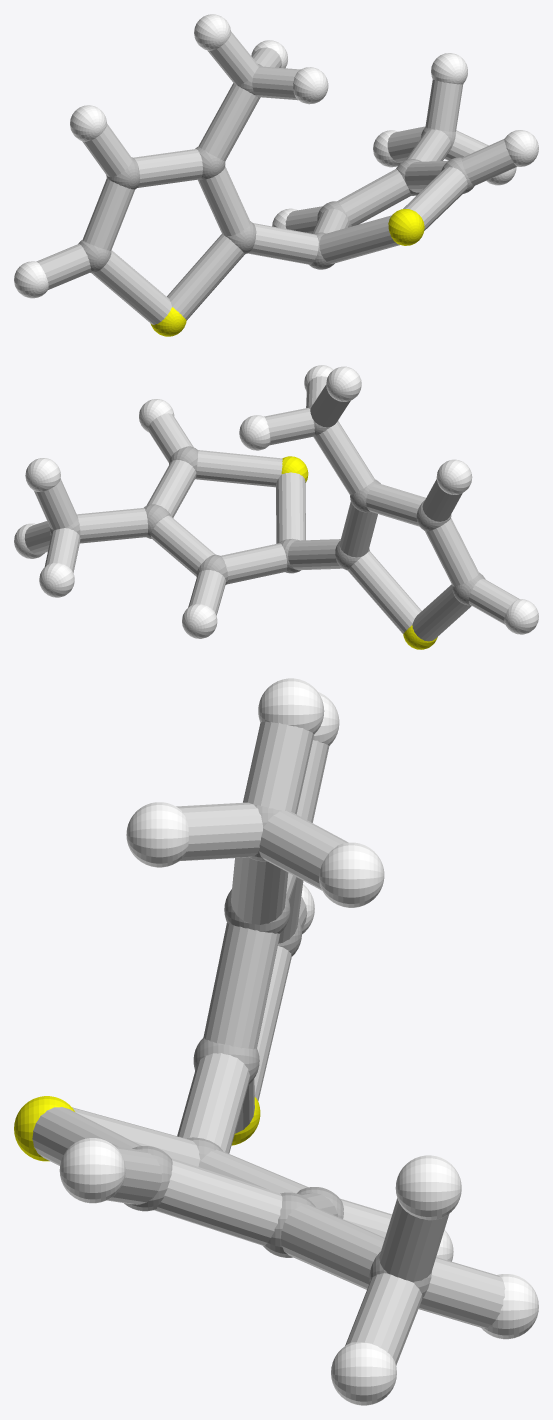
The model's file is Methylthiophene_Phi_40_Theta_80_Methylthiophene.glb.
The picture shows the model from 3 angles, top to bottom: view 1: azimuth 30°, elevation 25°; view 2: azimuth 150°, elevation 25°; view 3: azimuth 270°, elevation 25°; orthographic projection. The views are drawn at different scales.
Visible parts, largest first — view 1: grp7965, grp3621, grp1, grp7241; view 2: grp7965, grp3621, grp1, grp7241; view 3: grp7965, grp3621, grp1, grp7241.
Part boxes in pixels (x1,y1,x2,y2): grp7965: (36, 31, 517, 324); grp3621: (14, 14, 538, 298); grp1: (78, 64, 474, 273); grp7241: (150, 209, 424, 336); grp7965: (24, 376, 519, 641); grp3621: (14, 365, 538, 638); grp1: (49, 404, 485, 605); grp7241: (281, 456, 437, 649); grp7965: (32, 721, 505, 1365); grp3621: (59, 678, 538, 1405); grp1: (124, 805, 431, 1298); grp7241: (14, 1096, 260, 1161).
Size of the model in its own units: 9.69 by 5.17 by 4.77.
